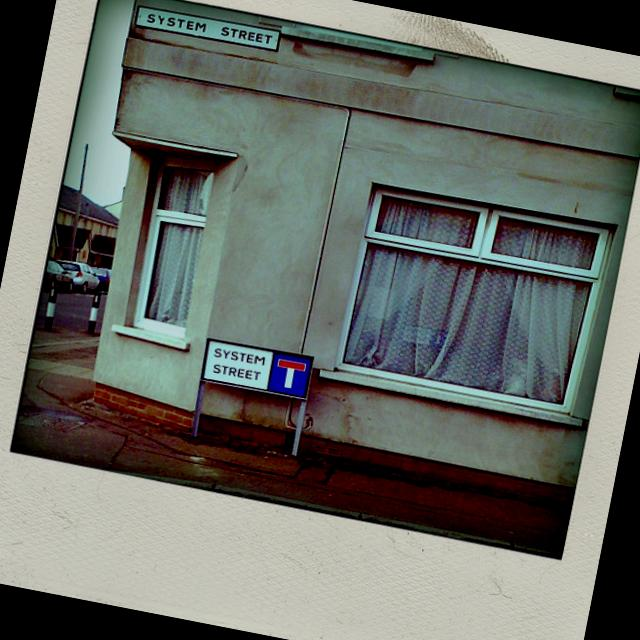Vehicle: (52, 258, 102, 297), (44, 258, 80, 293), (87, 266, 113, 293)
